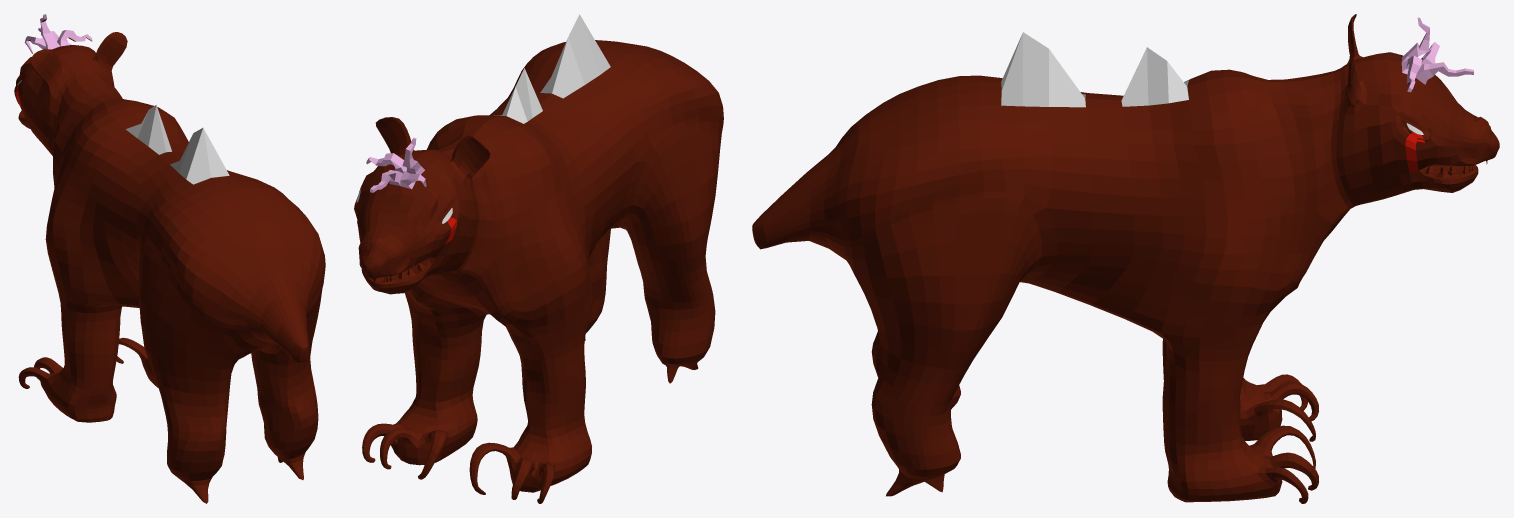
Rendered from Bear2.fbx.
3 views of the same model, side by side, from view 1: azimuth 30°, elevation 25°; view 2: azimuth 150°, elevation 25°; view 3: azimuth 270°, elevation 25° (orthographic). The views are drawn at different scales.
Visible parts, largest first — view 1: Polygon_3; view 2: Polygon_3; view 3: Polygon_3.
Boxes of the visible parts, x1,y1,x2,y2 form: Polygon_3: (14,14,325,503); Polygon_3: (354,14,723,503); Polygon_3: (752,14,1499,503).
Size of the model in its own units: 4596 by 9203 by 14120.
